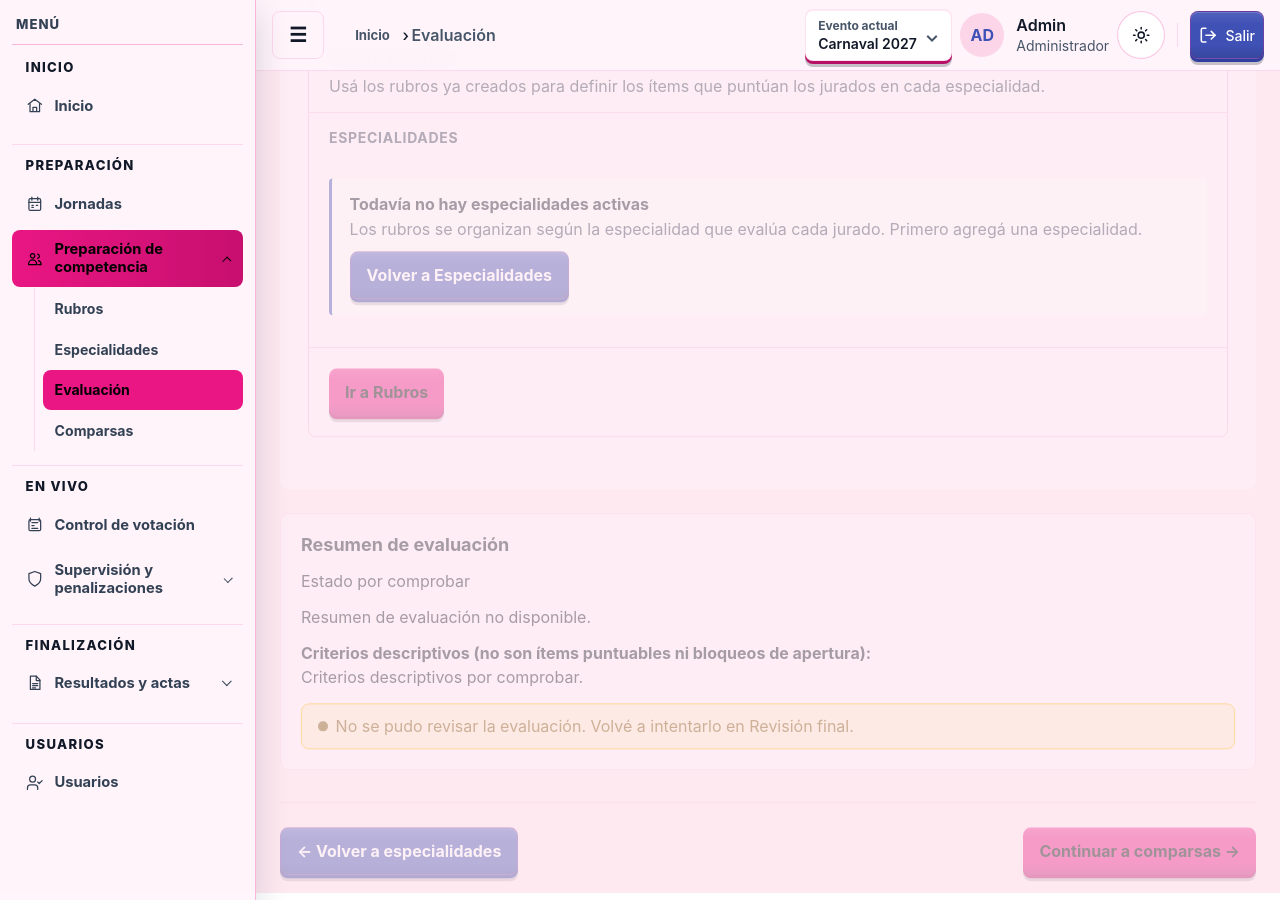
ruta de Competencia con evento activo › sigue la secuencia desde Evaluación hasta Revisión sin efectuar apertura al entrar por hash
(page scrolled)
Step 1. Click the button "Continuar a comparsas →" → [1140, 852], box [1023, 828, 1256, 876]
(page scrolled)
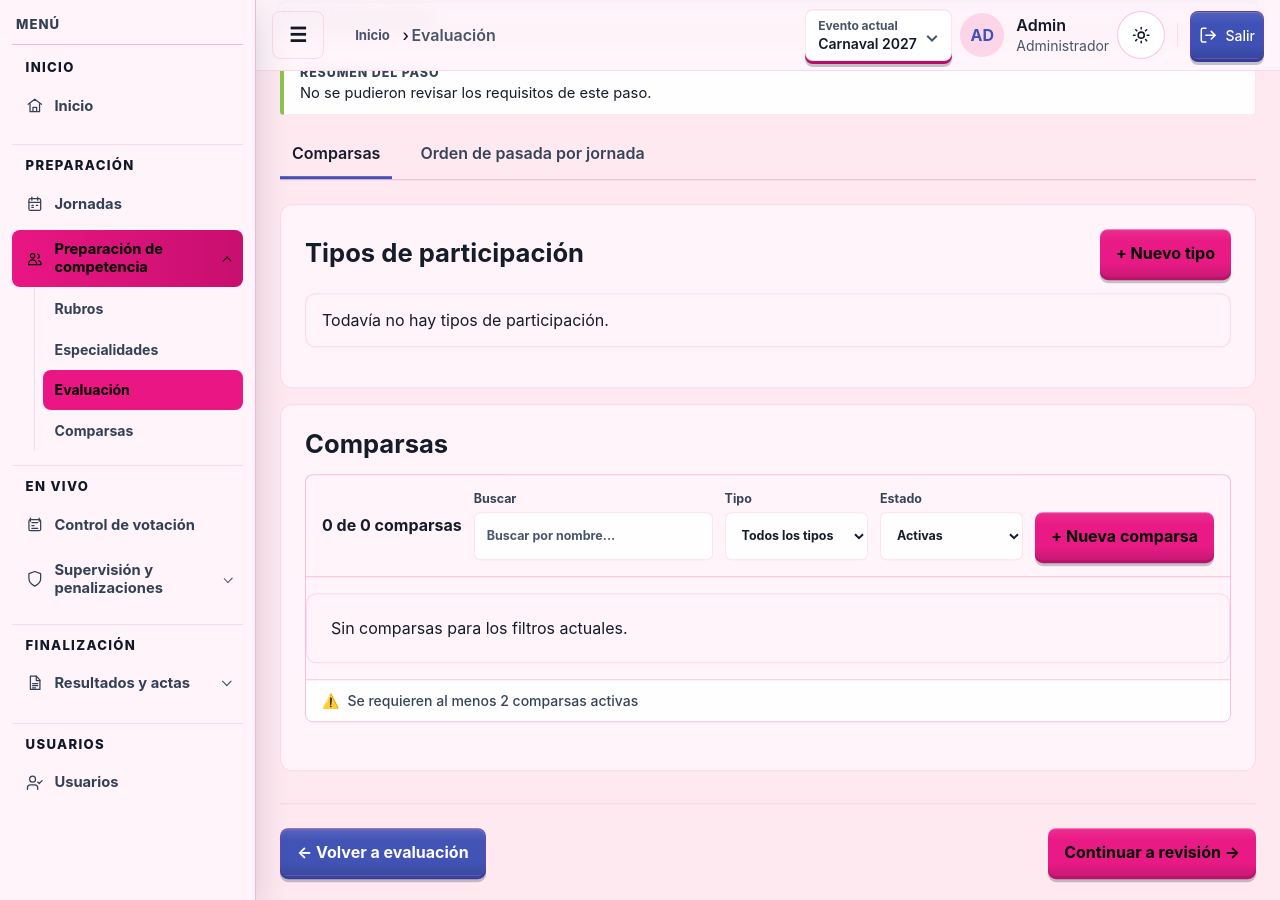
Step 2. Click the button "Continuar a revisión →" → [1152, 852], box [1048, 828, 1256, 876]
(page scrolled)
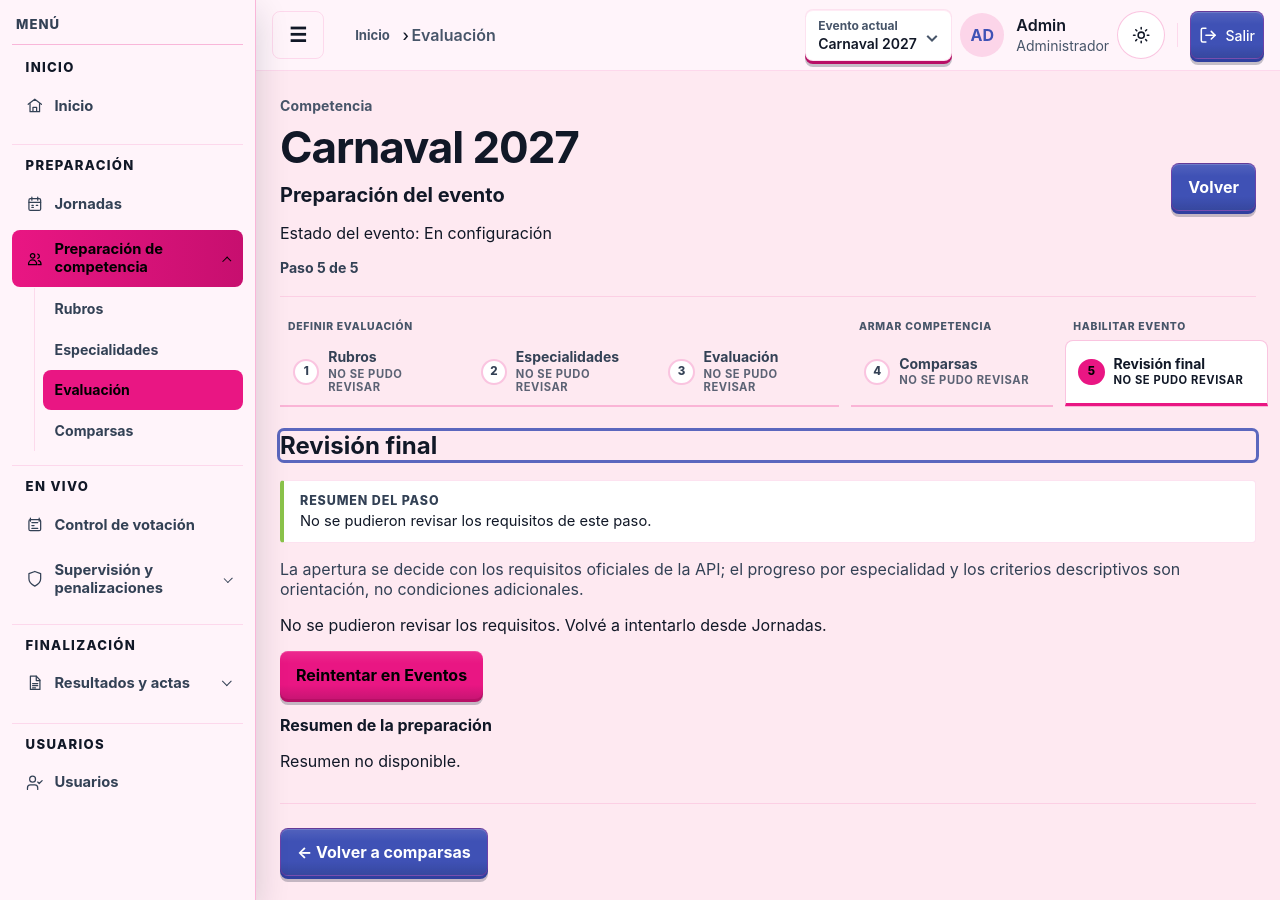
Check: the heading "Revisión final" is shown, box [280, 431, 1256, 460]
